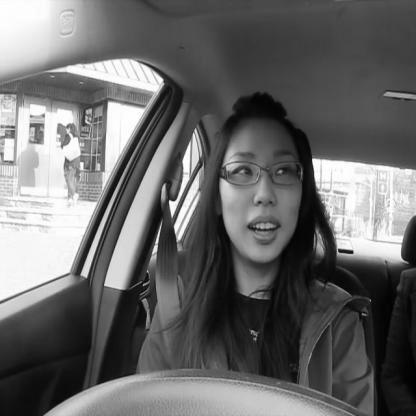seatbelt: (158, 80, 322, 416)
